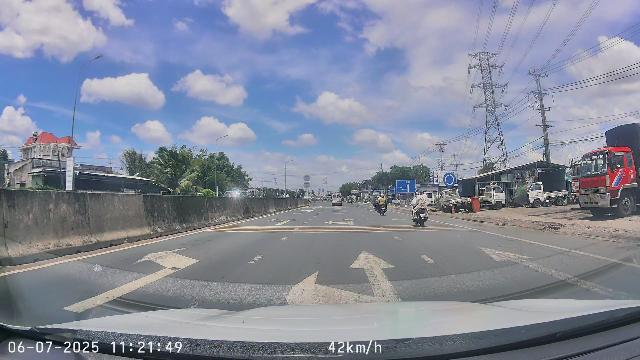301h-cac-xe-chi-duoc-di-thang-va-re-trai: (389, 186, 396, 193)
303-noi-giao-nhau-chay-theo-vong-xuyen: (443, 172, 456, 187)
